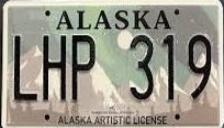1: (160, 33, 183, 103)
3: (127, 32, 157, 101)
9: (185, 33, 214, 99)
H: (41, 33, 68, 105)
L: (11, 33, 43, 102)
P: (69, 33, 98, 102)
